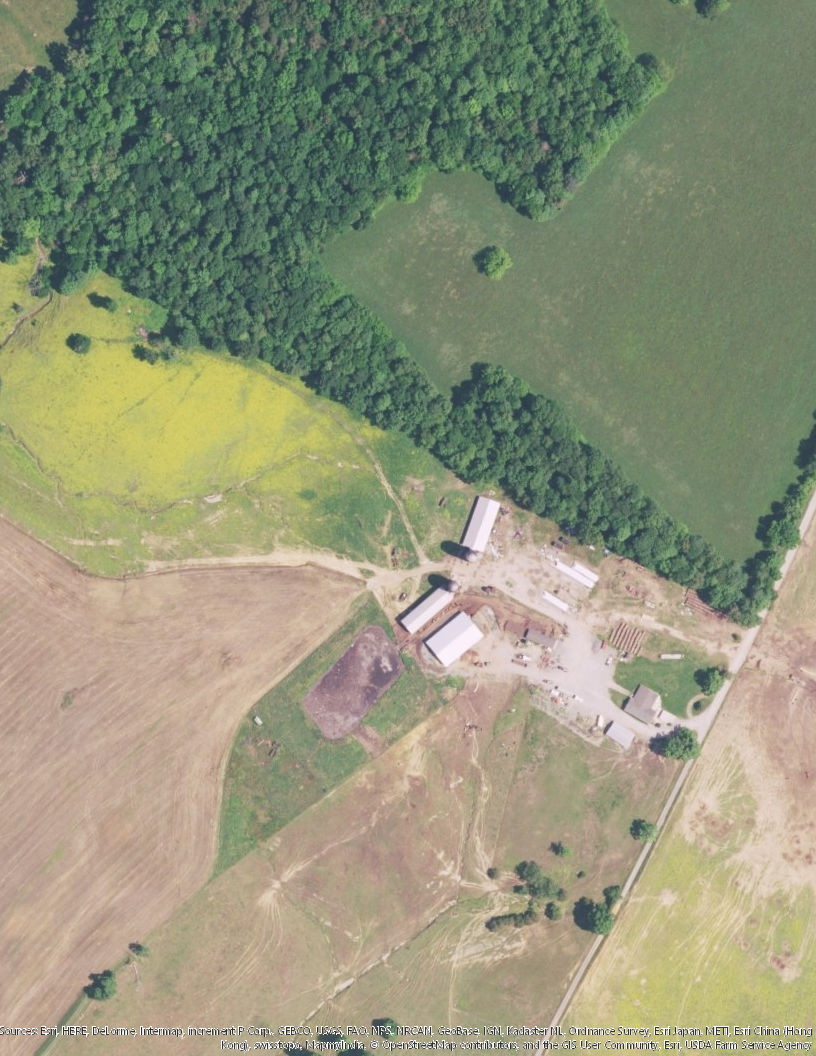cafo: (454, 493, 515, 558), (423, 608, 489, 664), (395, 582, 464, 634)
